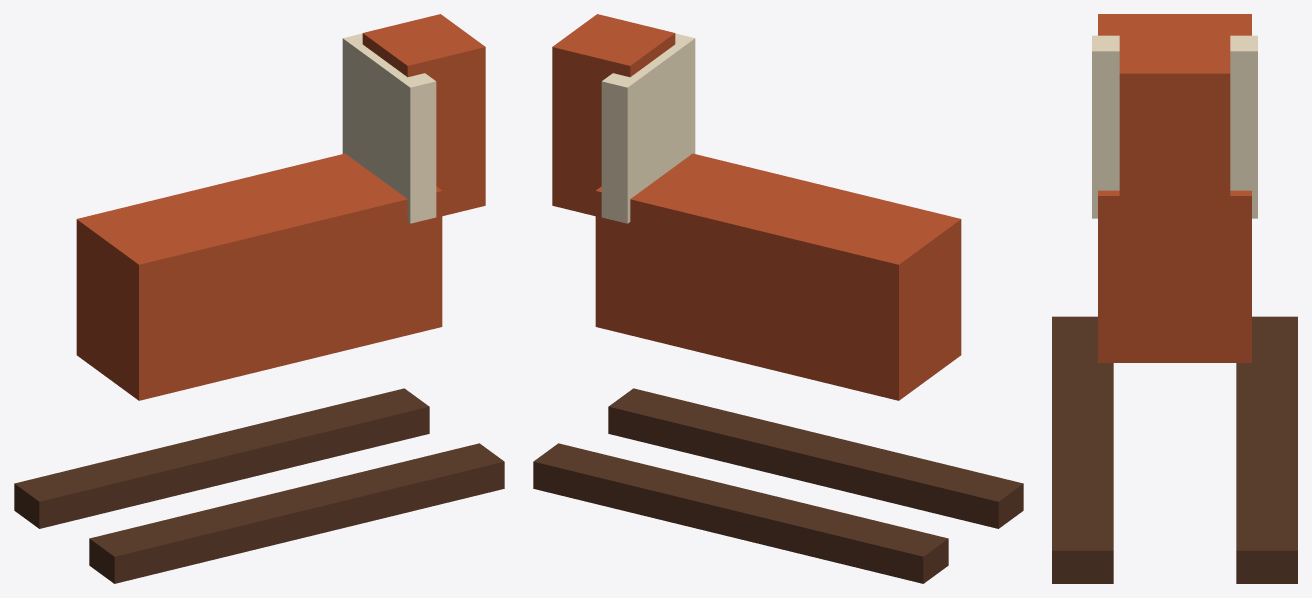
File: rocking_horse.glb
3 views of the same model, side by side, from view 1: azimuth 30°, elevation 25°; view 2: azimuth 150°, elevation 25°; view 3: azimuth 270°, elevation 25° (orthographic). The views are drawn at different scales.
Parts seen in each view (by area): view 1: Box3, Box1, Box2, Box5, Box4; view 2: Box3, Box2, Box1, Box5, Box4; view 3: Box4, Box3, Box1, Box2, Box5.
Part boxes in pixels (x1,y1,x2,y2): Box3: (76,153,442,400); Box1: (14,388,429,528); Box2: (89,443,504,583); Box5: (342,33,436,223); Box4: (362,14,485,216); Box3: (595,153,961,400); Box2: (608,388,1023,528); Box1: (533,443,948,583); Box5: (601,33,695,223); Box4: (552,14,675,216); Box4: (1119,27,1230,268); Box3: (1098,14,1251,362); Box1: (1236,316,1297,583); Box2: (1052,316,1113,583); Box5: (1092,35,1257,218).
Bounding box in the file's own units: 0.92 × 0.925 × 0.4.
